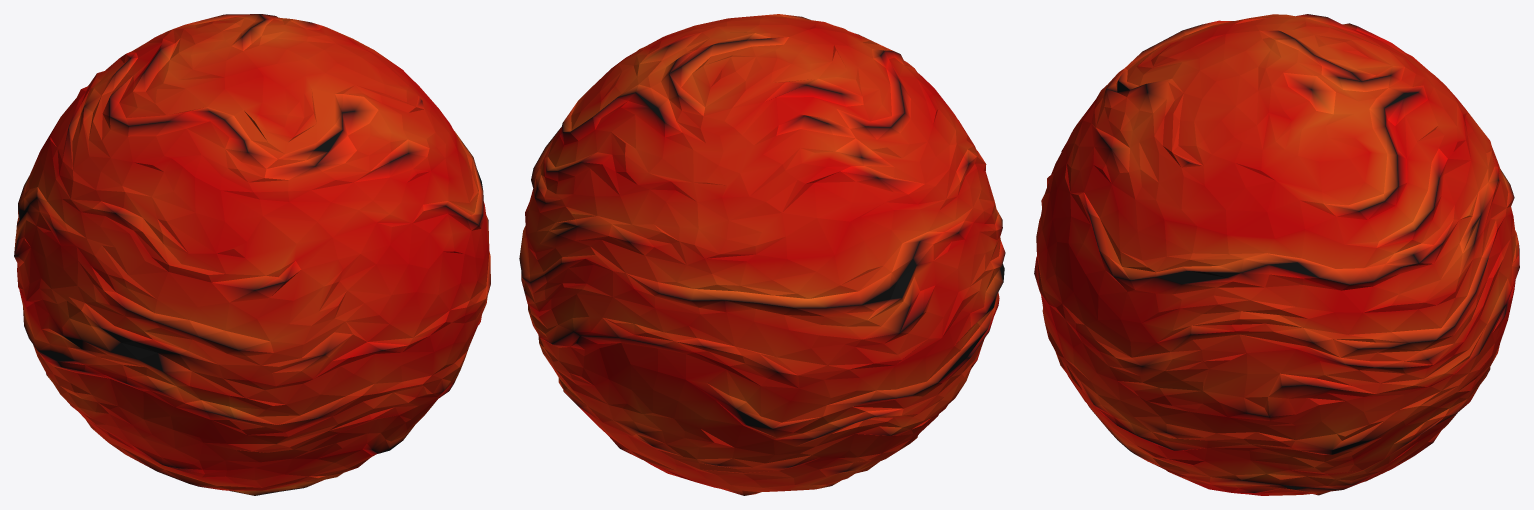
Rendered from volcanic_planet_3.fbx.
3 views of the same model, side by side, from view 1: azimuth 30°, elevation 25°; view 2: azimuth 150°, elevation 25°; view 3: azimuth 270°, elevation 25° (orthographic).
Visible parts, largest first — view 1: filecache2; view 2: filecache2; view 3: filecache2.
Boxes of the visible parts, x1=… form: filecache2: x1=14, y1=14, x2=490, y2=495; filecache2: x1=519, y1=14, x2=1005, y2=495; filecache2: x1=1034, y1=14, x2=1519, y2=495.
Size of the model in its own units: 2.02 by 2.02 by 2.03.
